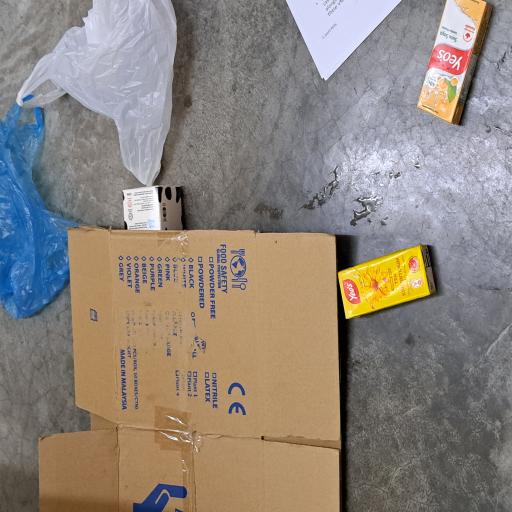cardboard: (0, 49, 214, 452)
drink carton: (143, 451, 201, 512), (209, 164, 245, 245)
paper: (321, 375, 383, 512)
plastic bag: (246, 20, 384, 240), (143, 0, 315, 115)
